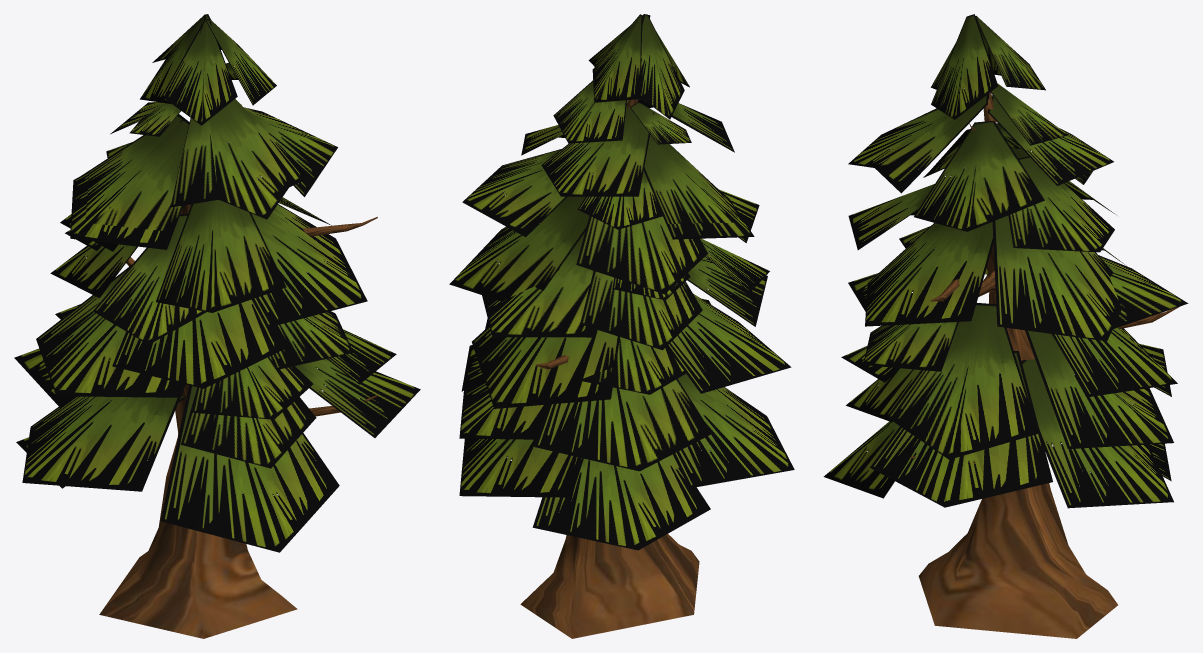
The model's file is _tree_baked.FBX.
3 renders of one model, left to right at view 1: azimuth 30°, elevation 25°; view 2: azimuth 150°, elevation 25°; view 3: azimuth 270°, elevation 25°, orthographic. The views are drawn at different scales.
Parts seen in each view (by area): view 1: FOLHAGE001; view 2: FOLHAGE001; view 3: FOLHAGE001.
Boxes of the visible parts, bbox=[...] form: FOLHAGE001: bbox=[14, 14, 420, 638]; FOLHAGE001: bbox=[449, 14, 794, 638]; FOLHAGE001: bbox=[823, 14, 1188, 638].
Size of the model in its own units: 22.37 by 19.68 by 35.08.
1 material, 1 textured.
